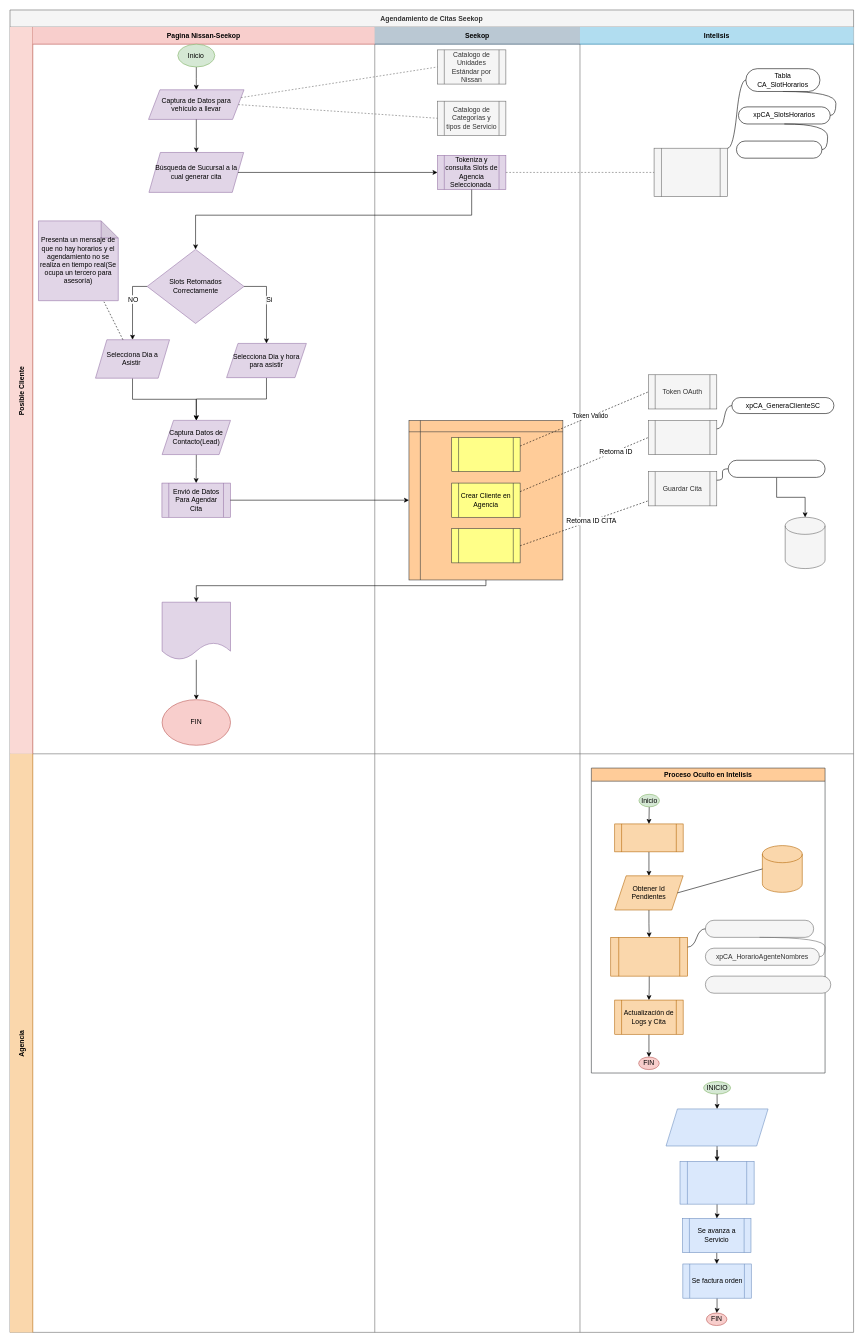
This 864x1342 diagram has some shape labels left out. Here are the shapes that lost their labels. From the top down, the box of each, then its label:
(736, 141, 822, 158): xpCA_HorarioAgente
(654, 148, 728, 197): Proporciona Calendario de Fechas en un periodo establedido para cada sucursal
(451, 437, 520, 472): Obtener Token de Agencia
(648, 420, 717, 455): CrearClienteSeekop
(728, 460, 825, 477): xpCA_GenerarCitaSePa
(451, 528, 520, 563): Guardar datos de Cita
(785, 517, 825, 569): Guardado de ID en LOG para Procesar
(162, 602, 231, 660): Presenta una vistazo de los datos enviados y el mensaje de Cita Confirmada
(614, 823, 683, 852): Ejecución de Tarea Recurrente
(762, 845, 802, 892): ID pendientes por Afectar
(705, 920, 814, 937): xpCA_ConfirmarCitaSeekop
(610, 937, 688, 976): Proceso de Afectación para Cambiar estatus en Citas(Confirmacion)
(705, 976, 831, 993): Afectamos cita y Generamos Folio
(665, 1108, 768, 1146): Busqueda de Prospecto en Intelsis por monitor o por ventana de Ventas
(679, 1161, 754, 1204): Revision de Informacion y Captura de Informacion Faltante
